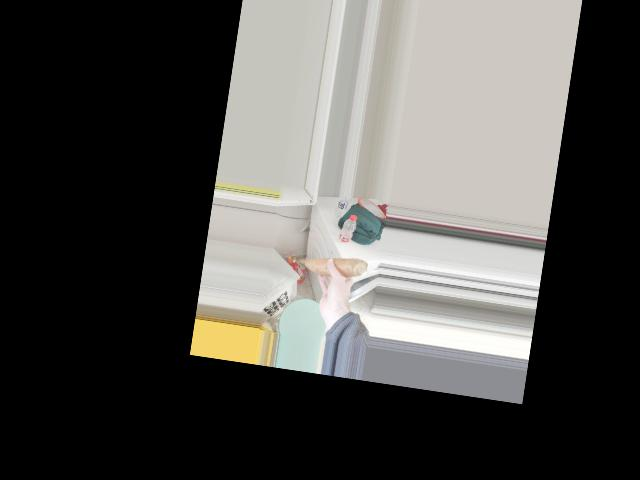sweet_potato: (304, 257, 358, 279)
